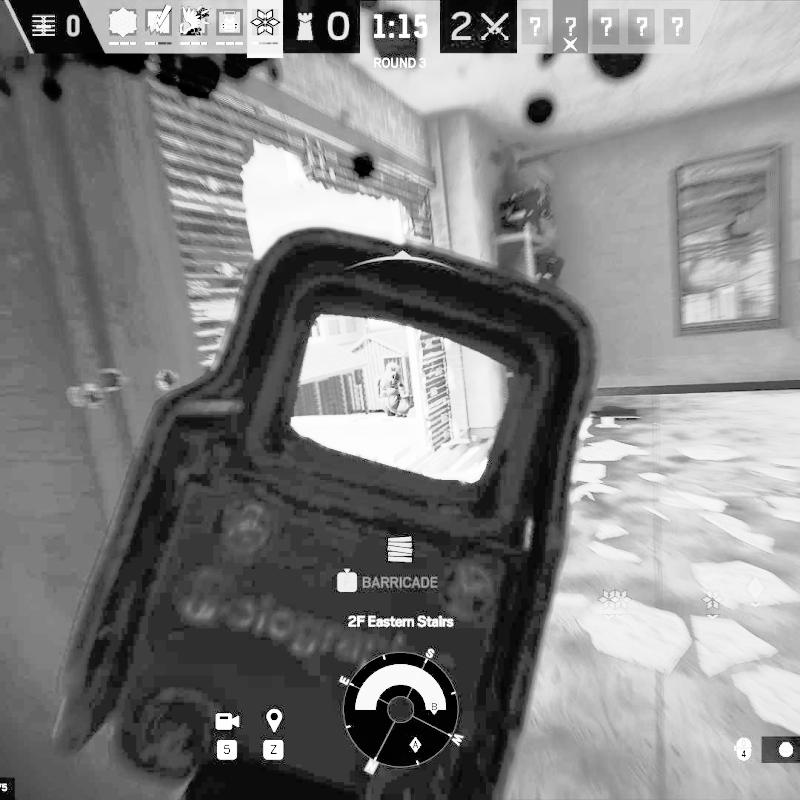Character: (374, 361, 413, 418)
